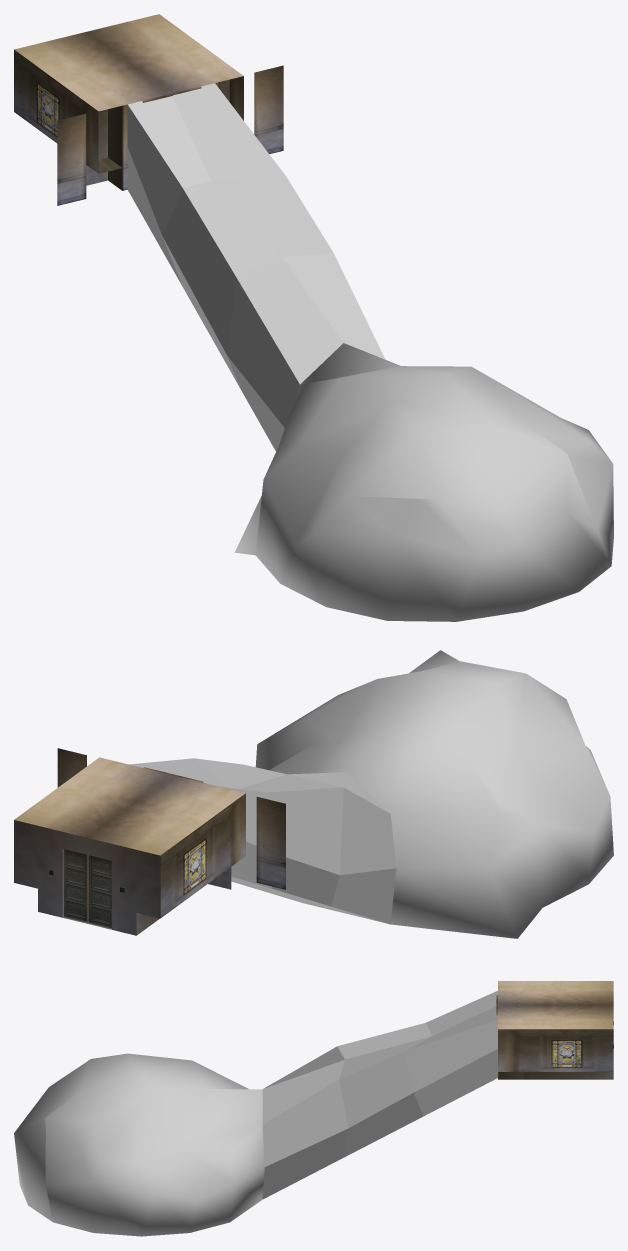
The model's file is mausoleum.fbx.
3 views of the same model, one above another, from view 1: azimuth 30°, elevation 25°; view 2: azimuth 150°, elevation 25°; view 3: azimuth 270°, elevation 25° (orthographic). The views are drawn at different scales.
Parts seen in each view (by area): view 1: Cave, Tunnel, Mausoleum; view 2: Cave, Mausoleum, Tunnel; view 3: Cave, Tunnel, Mausoleum.
Part boxes in pixels (x1,y1,x2,y2): Cave: [234, 343, 613, 621]; Tunnel: [127, 83, 385, 451]; Mausoleum: [14, 14, 283, 205]; Cave: [255, 650, 613, 938]; Mausoleum: [14, 748, 285, 935]; Tunnel: [129, 758, 396, 924]; Cave: [14, 1053, 264, 1236]; Tunnel: [262, 991, 497, 1199]; Mausoleum: [496, 981, 613, 1079].
Bounding box in the file's own units: 1491 × 1237 × 3559.
